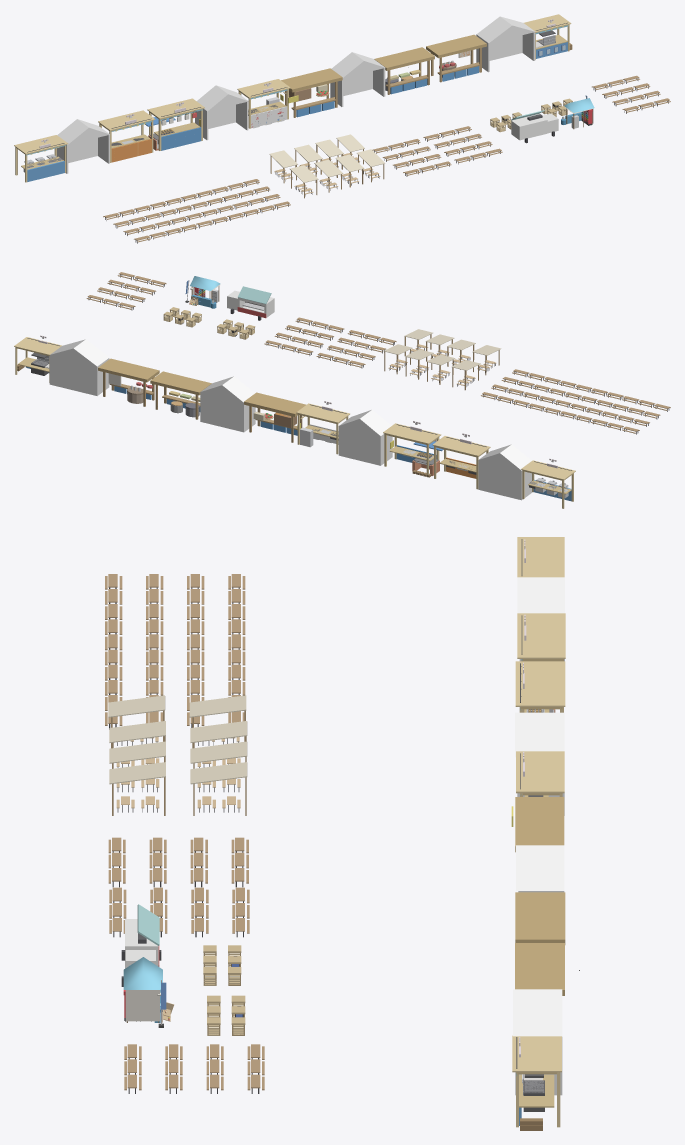
Rendered from F5_food.glb.
3 renders of one model, top to bottom at view 1: azimuth 30°, elevation 25°; view 2: azimuth 150°, elevation 25°; view 3: azimuth 270°, elevation 25°, orthographic. The views are drawn at different scales.
Visible parts, largest first — view 1: Geom3D (×21); view 2: Geom3D (×17); view 3: Geom3D (×22).
Boxes of the visible parts, <box> form: Geom3D (×21): <box>14,14,571,181</box>; Geom3D (×17): <box>14,286,575,500</box>; Geom3D (×22): <box>108,537,565,1072</box>.
Size of the model in its own units: 104 by 7.64 by 38.98.
